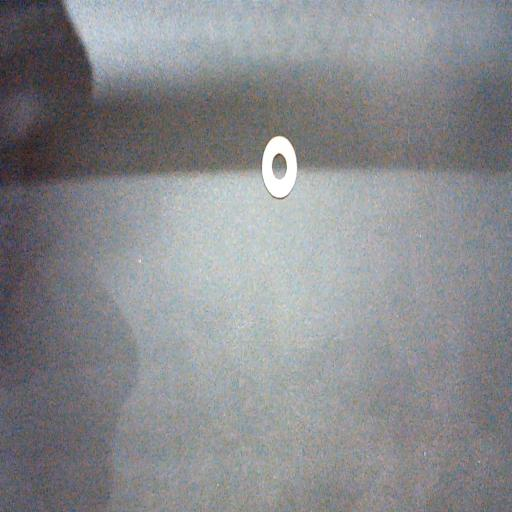washer: (262, 136, 298, 199)
